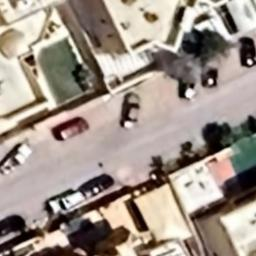SUV: (43, 190, 84, 217)
pickup: (0, 143, 35, 175)
sedan: (48, 116, 92, 142), (176, 63, 200, 103), (78, 174, 115, 198), (120, 92, 142, 130), (0, 214, 28, 239), (200, 52, 218, 90), (237, 33, 256, 69)
